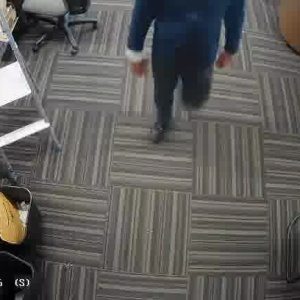person: (138, 0, 246, 141)
